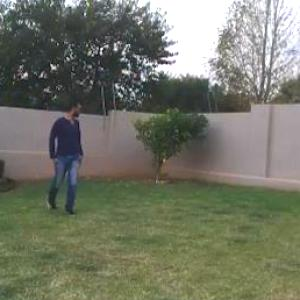follow: (42, 87, 92, 231)
